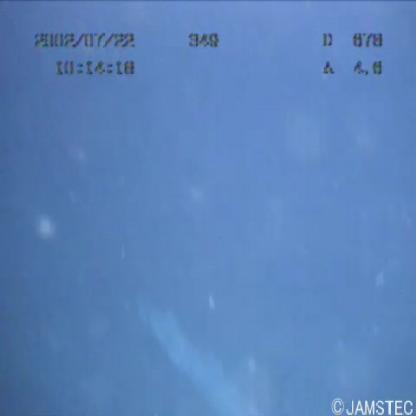Rác: (122, 281, 261, 416)
